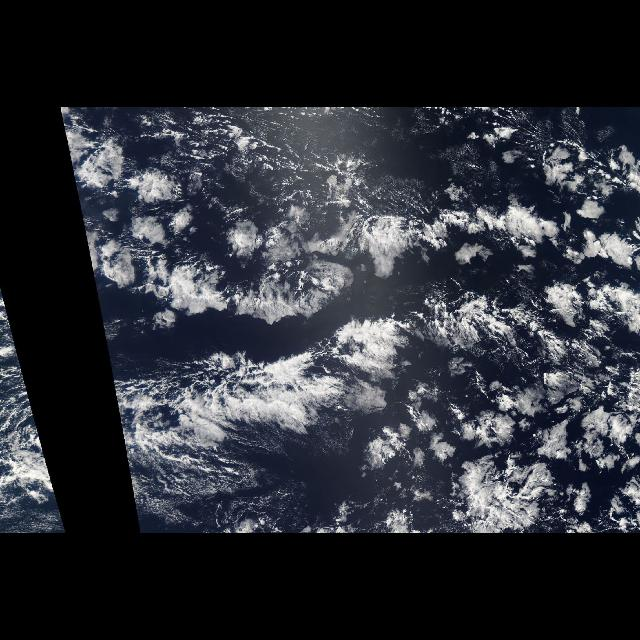Fish: (118, 314, 402, 474)
Flower: (61, 118, 639, 530)
